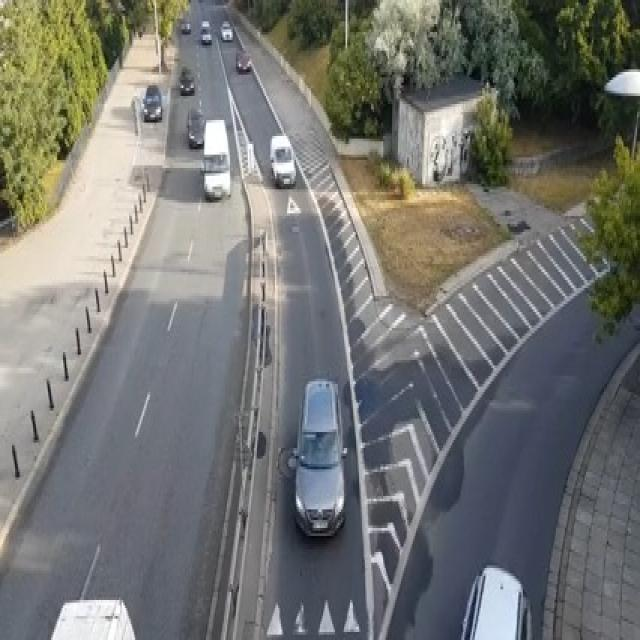bus: (458, 563, 532, 637), (44, 595, 138, 637)
car: (287, 376, 347, 536), (200, 117, 230, 200), (269, 133, 296, 187), (141, 83, 162, 120), (187, 106, 204, 146), (179, 64, 194, 93), (234, 48, 251, 72), (219, 19, 233, 40), (200, 18, 212, 42), (180, 19, 191, 32)
